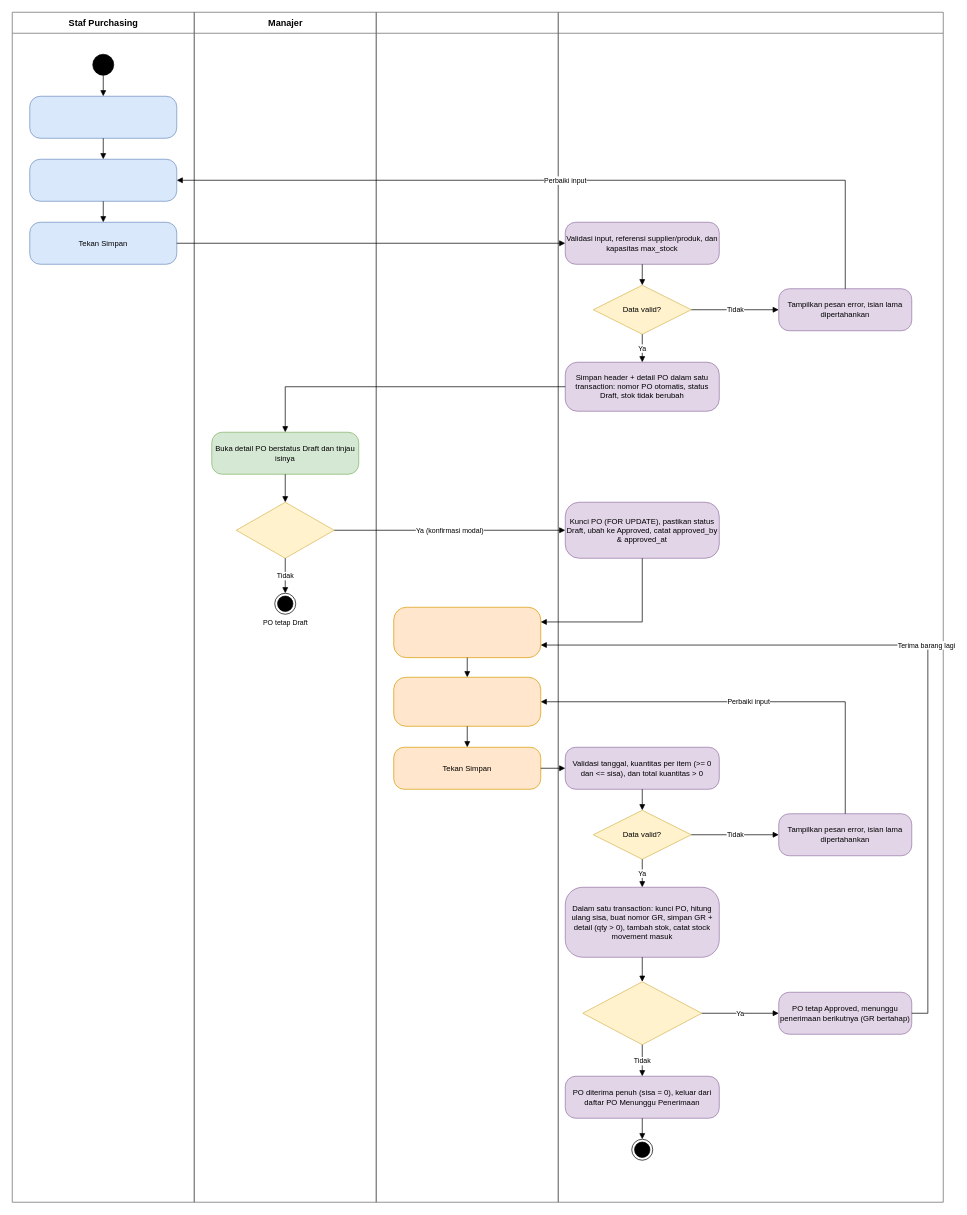
This 967x1215 diagram has some shape labels left out. Here are the shapes that lost their labels. From the top down, the box of each, then its label:
(29, 96, 177, 138): Buka menu Purchase Order, pilih Buat PO
(29, 159, 177, 201): Isi supplier, tanggal, dan item PO (produk, kuantitas, harga satuan)
(236, 502, 334, 558): Setujui PO?
(376, 12, 558, 1202): Staf Gudang
(558, 12, 943, 1202): Sistem
(393, 607, 541, 658): Buka daftar PO Menunggu Penerimaan, pilih PO Approved (Terima Barang)
(393, 677, 541, 726): Isi tanggal penerimaan dan kuantitas diterima per item (maks. sebesar sisa)
(582, 981, 702, 1045): Masih ada sisa kuantitas PO?
